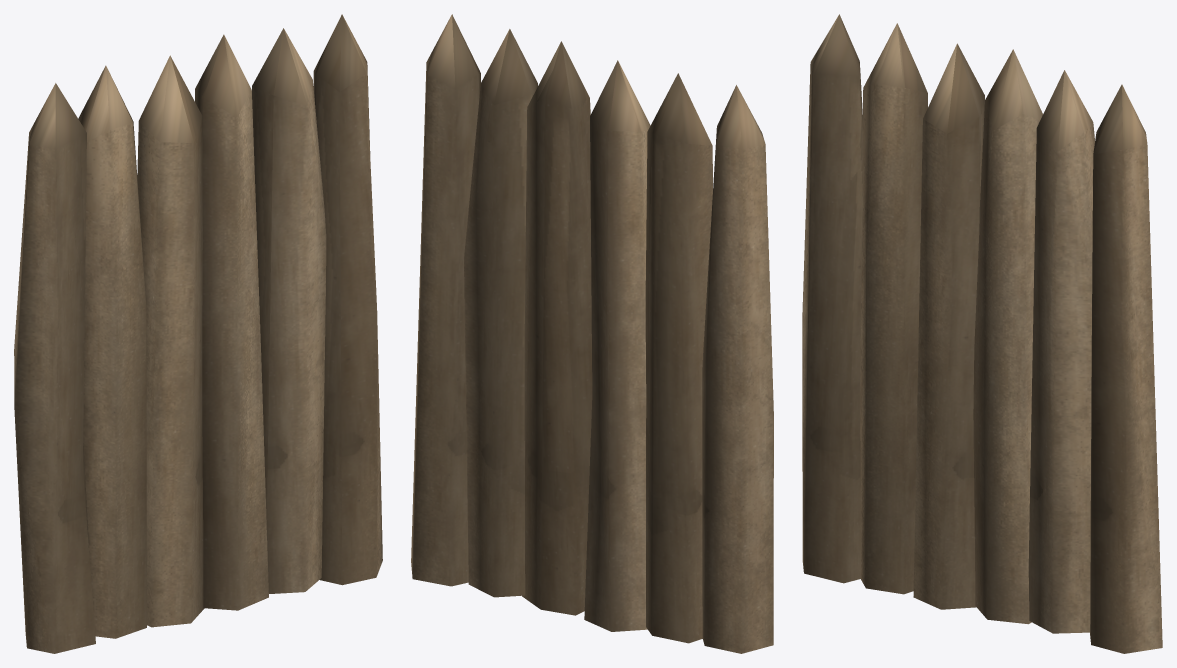
File: Fence_LOD1.fbx
3 renders of one model, left to right at view 1: azimuth 30°, elevation 25°; view 2: azimuth 150°, elevation 25°; view 3: azimuth 330°, elevation 25°, orthographic.
Visible parts, largest first — view 1: Fence_LOD1; view 2: Fence_LOD1; view 3: Fence_LOD1.
Part boxes in pixels (box(x1,y1,x2,y2)): Fence_LOD1: box(14, 14, 382, 653); Fence_LOD1: box(411, 14, 773, 653); Fence_LOD1: box(802, 14, 1162, 653).
Size of the model in its own units: 13.34 by 19.61 by 2.38.
